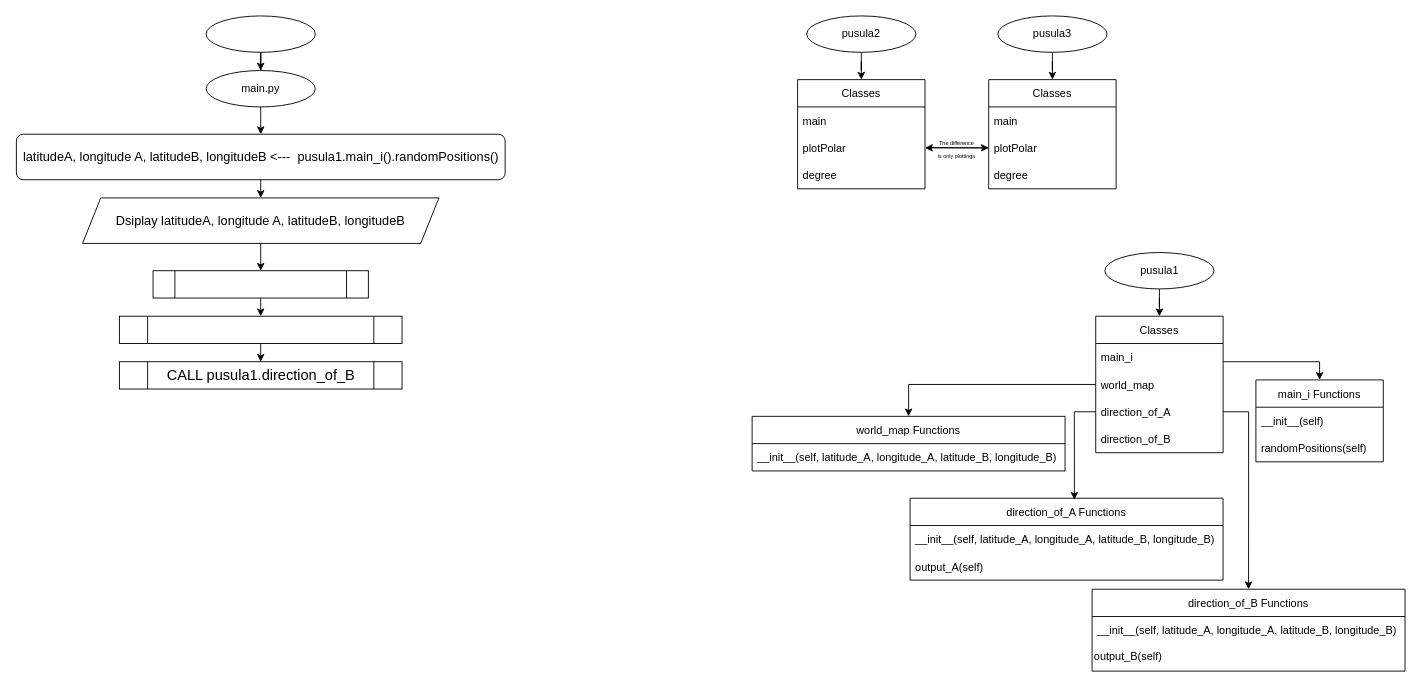
Image size: 1421x687. Some labels were removed from this diagram. The shapes that lost their labels are listed below. From the top down, each one's centre as x and y in pixels, then its label:
At (x=260, y=33): "START".
At (x=260, y=284): "CALL pusula1.world_map".
At (x=260, y=329): "CALL pusula1.direction_of_A".
